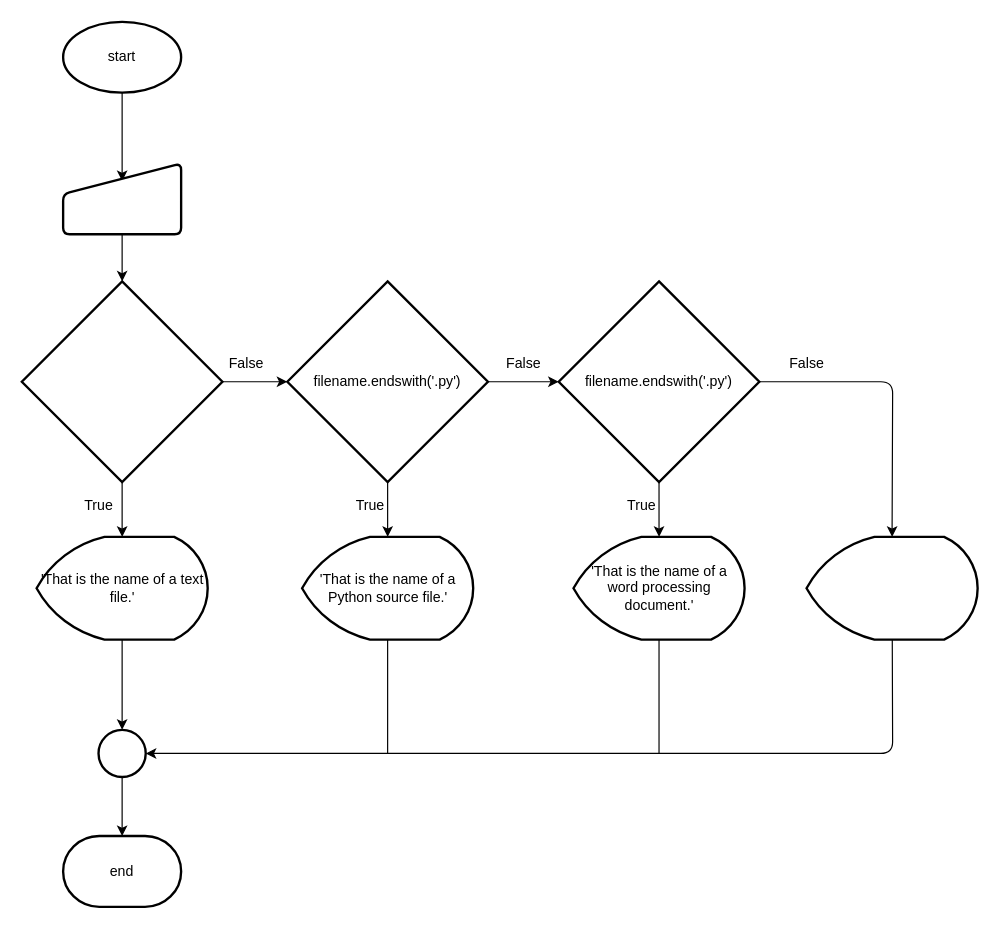
This 998x927 diagram has some shape labels left out. Here are the shapes that lost their labels. From the top down, the centre of each, then its label:
At point (121, 198): "filename".
At point (121, 381): "filename.endswith('.txt')".
At point (891, 587): "'Unknown file type.'".
